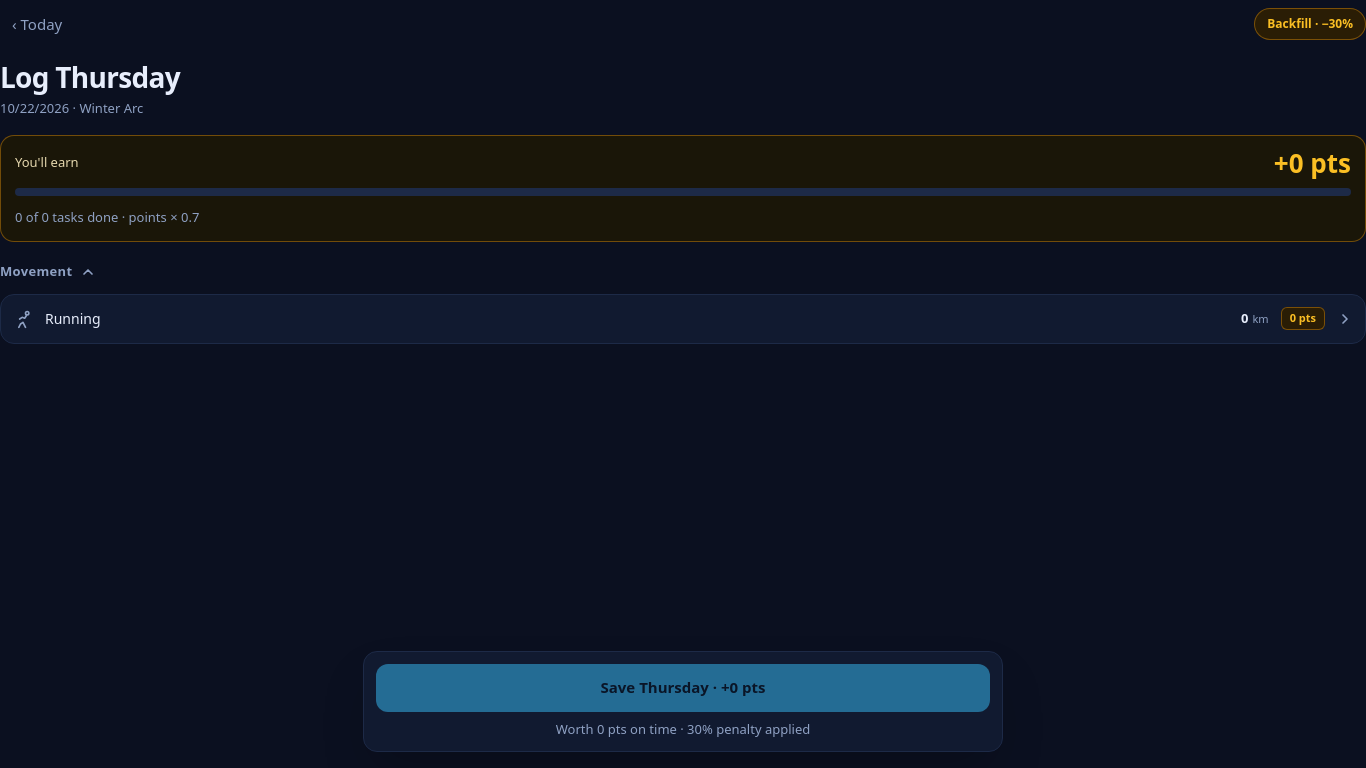
it: BackfillLogClient movement sheet › closes the sheet on Done and writes the value into the row
Click the button "Running 0km 0 pts": [73, 318] box [1, 294, 1365, 342]
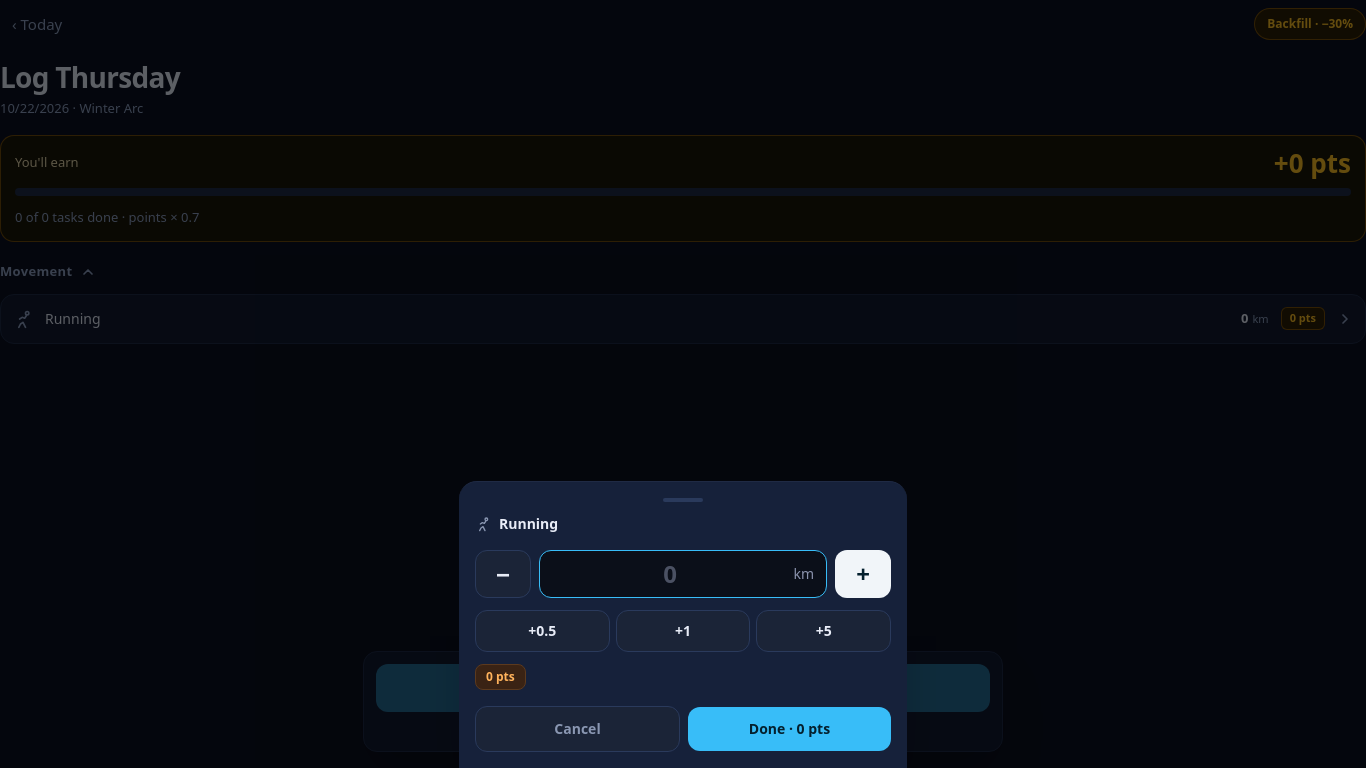
In the field named "value in ": [670, 574] box [552, 558, 787, 590], type "5"
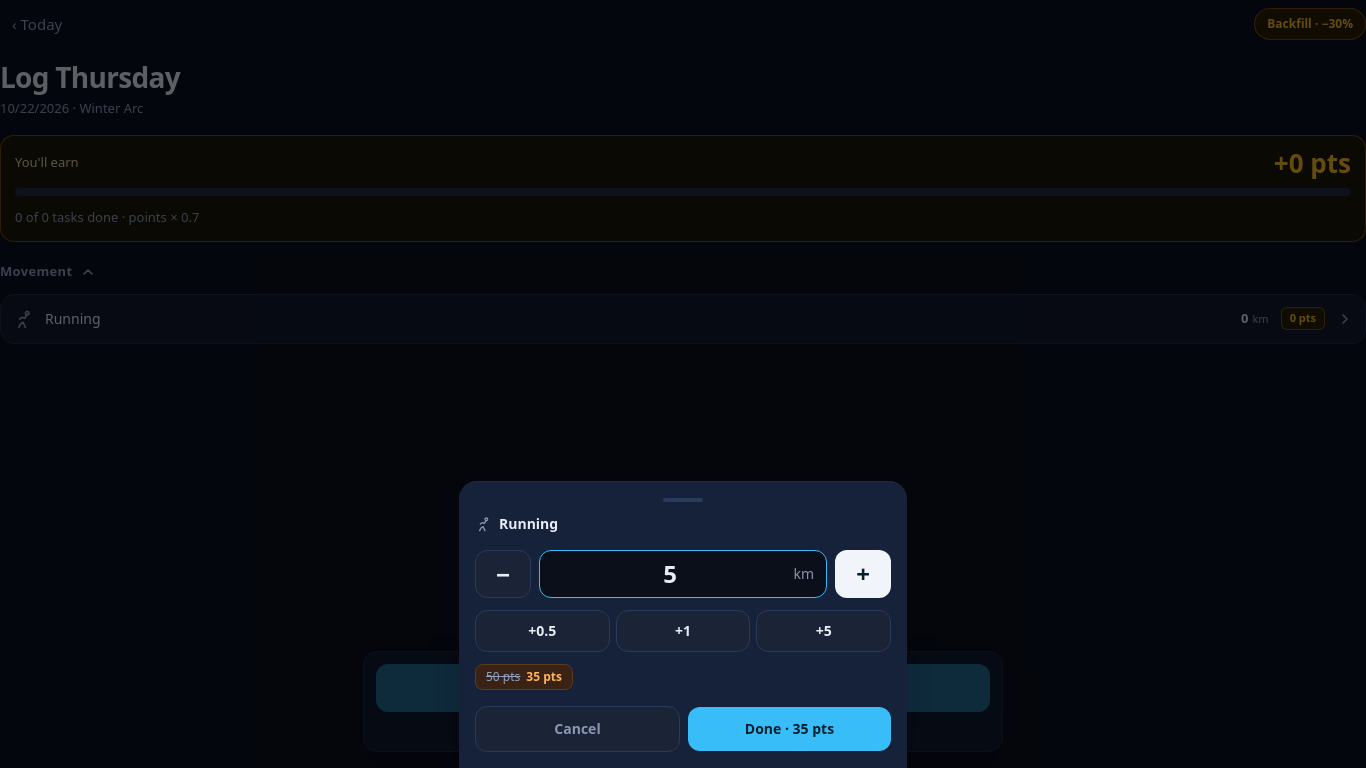
Click the button "Done · 35 pts": [790, 729] box [688, 707, 891, 751]
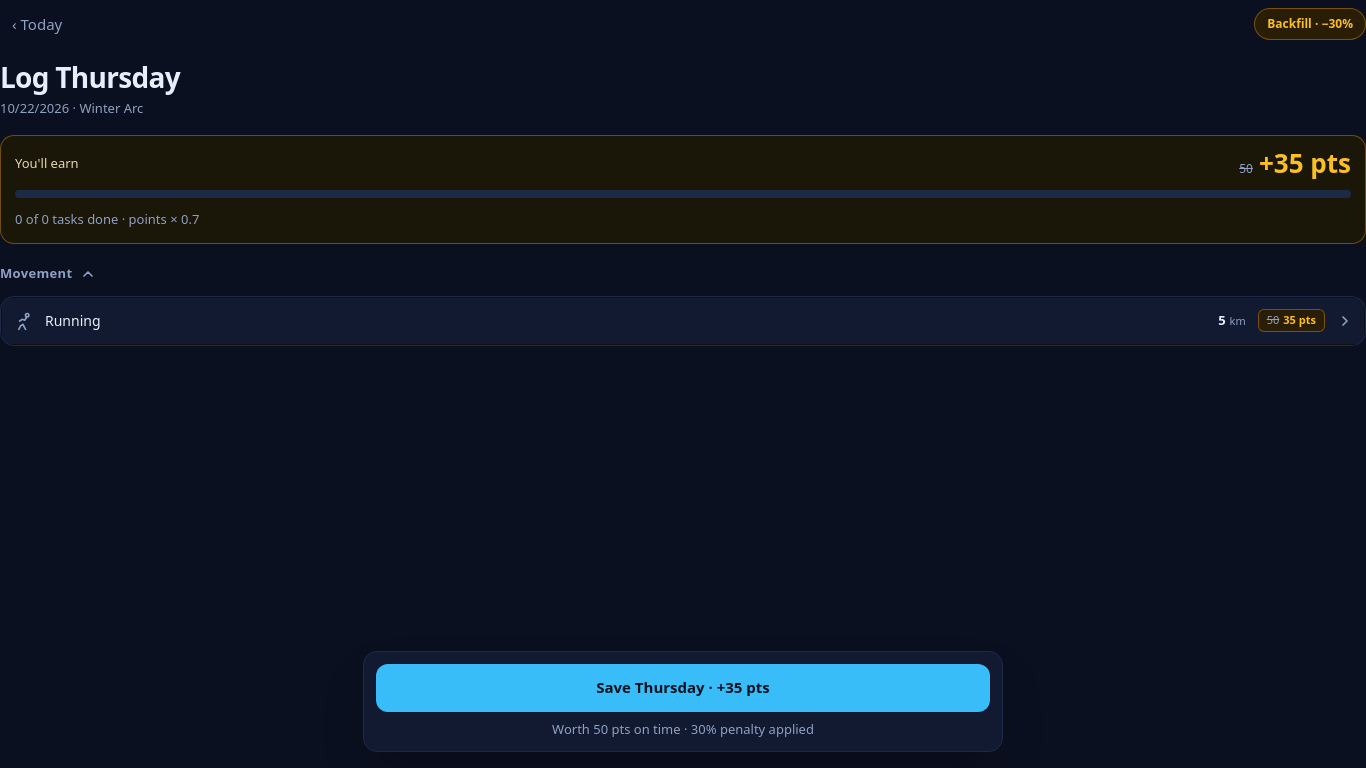
Check: the dialog is gone
Check: the button "Running 5km 5035 pts" is shown, box [1, 296, 1365, 344]
